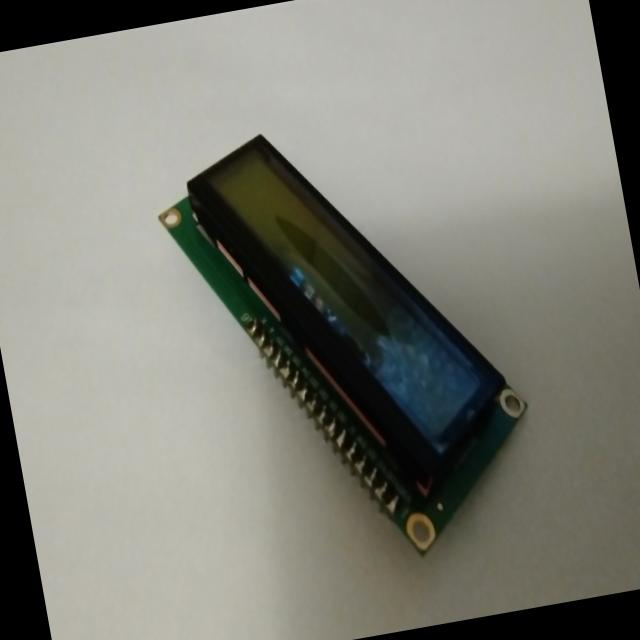lcd: (138, 83, 560, 607)
